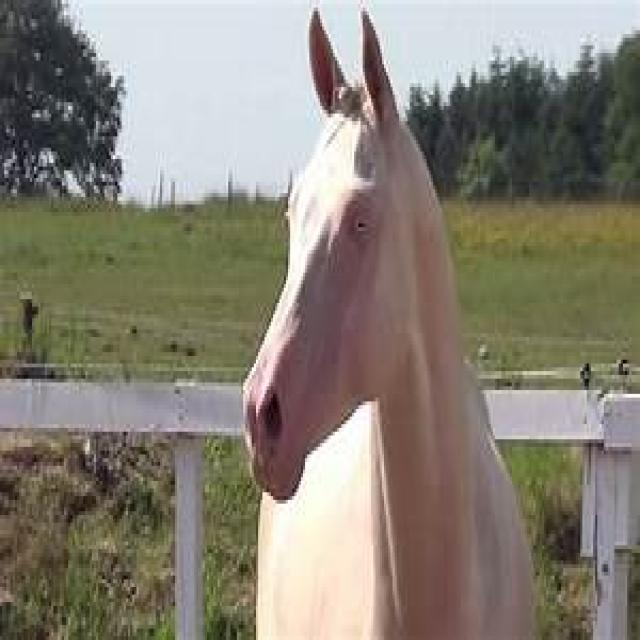horse: (243, 8, 535, 640)
